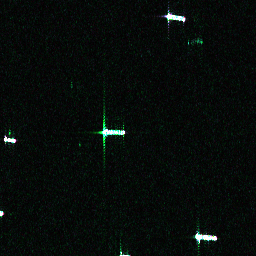ship: (193, 231, 218, 243), (163, 12, 187, 23), (100, 128, 127, 137), (2, 135, 17, 144)
